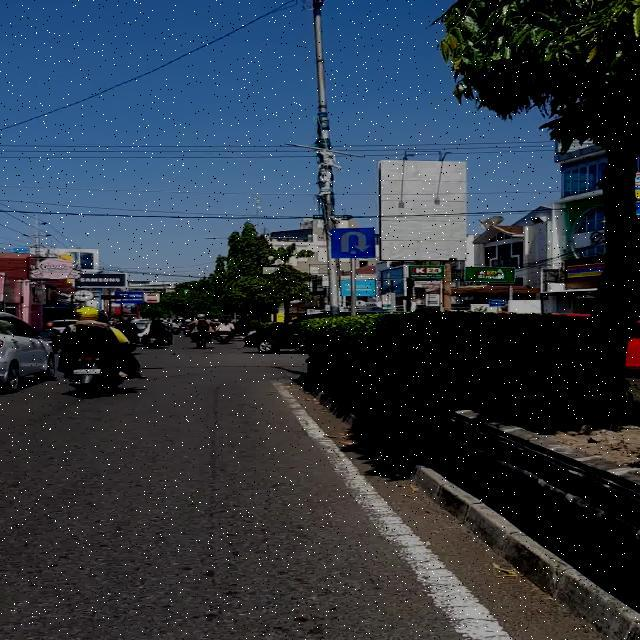Putar Balik: (330, 228, 376, 258)
